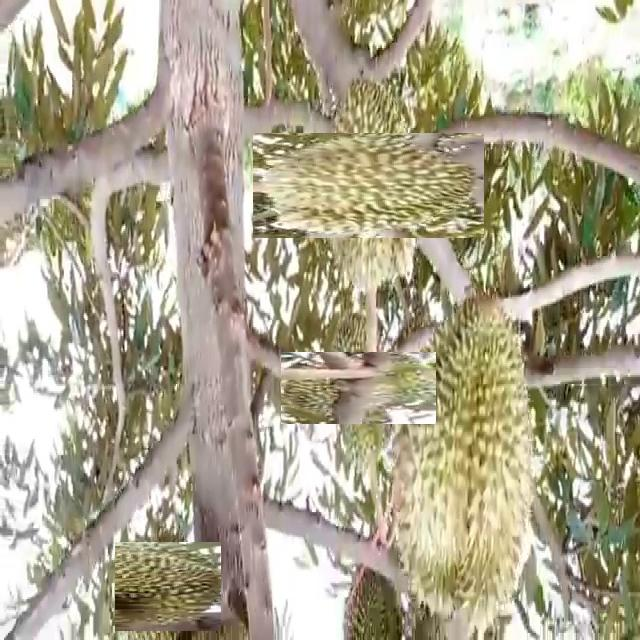durian: (385, 294, 538, 634), (285, 101, 453, 270), (301, 330, 415, 444), (119, 538, 217, 636), (338, 562, 409, 639)
